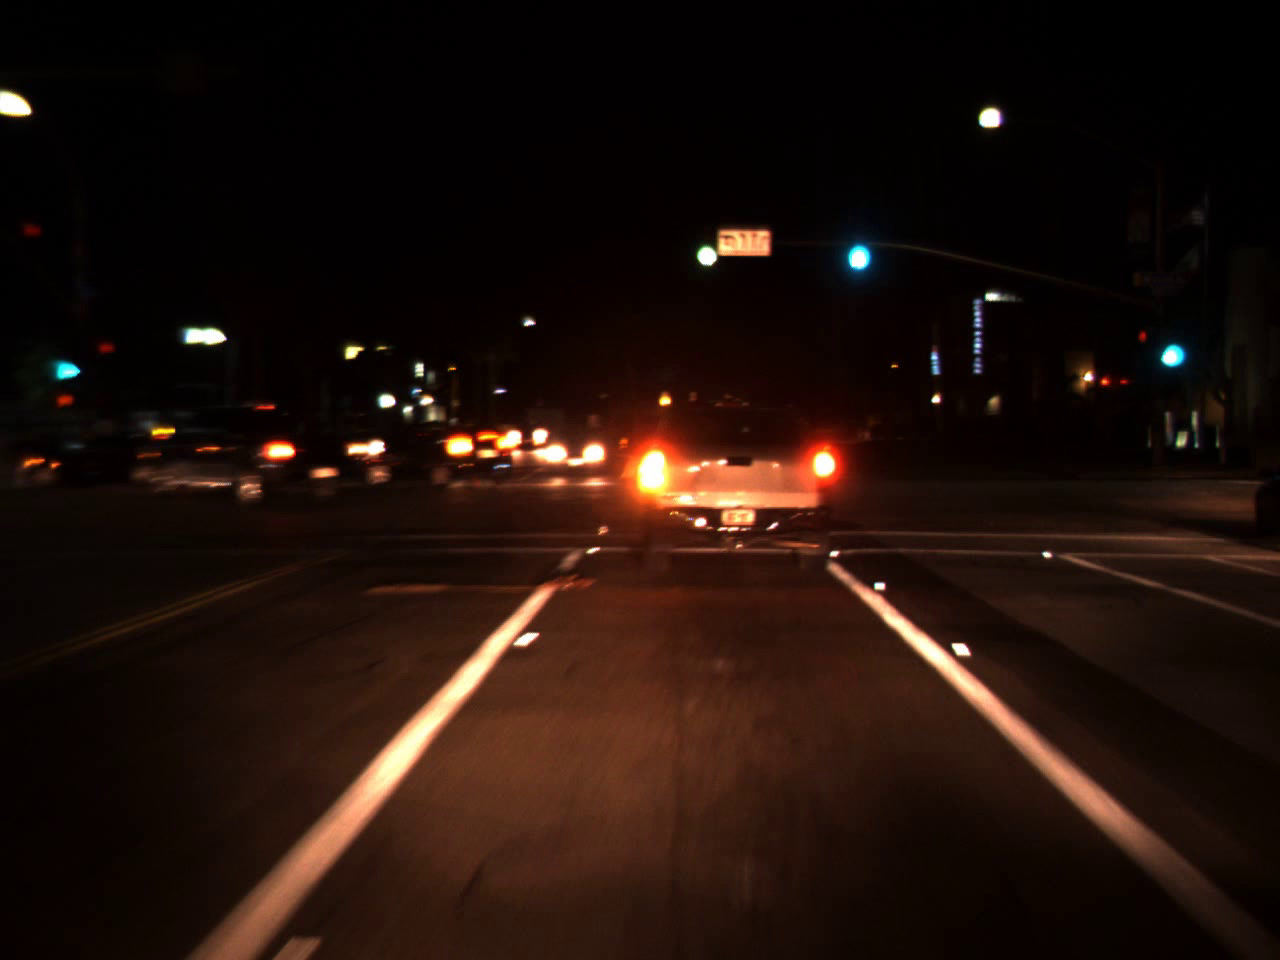go: (839, 211, 875, 280), (1153, 316, 1189, 376), (685, 226, 722, 274), (47, 343, 86, 385)
